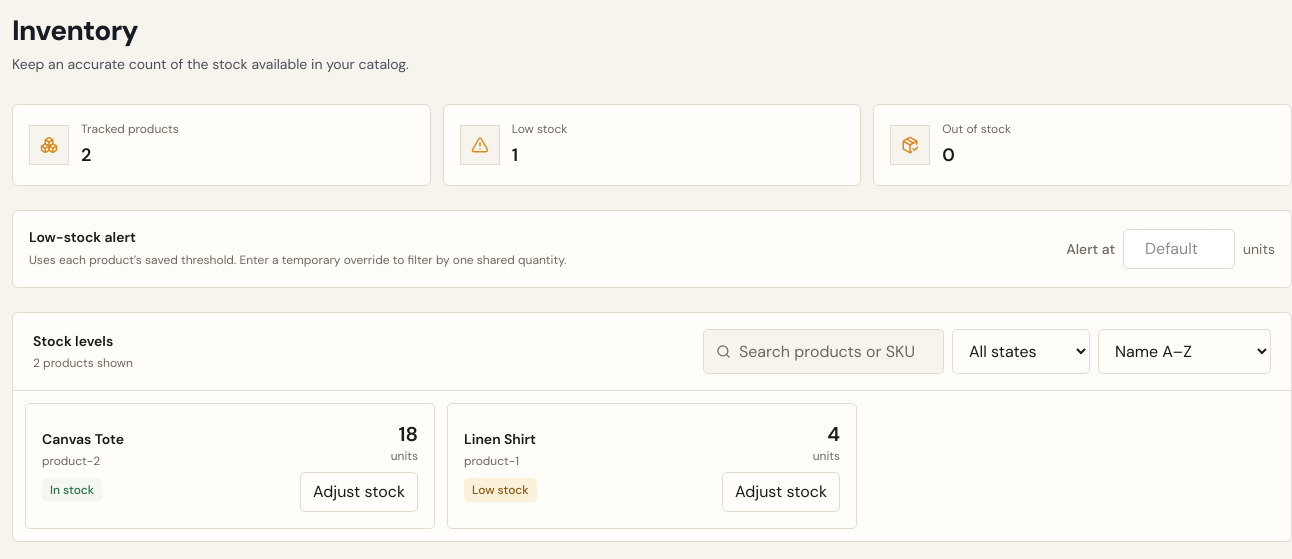
Test: Inventory › filters inventory rows by search text
Expected: the text "Linen Shirt" is shown, x1=464 y1=429 x2=537 y2=449
Expected: the number field labelled "Alert at" has style "backgroundColor: rgb(255, 255, 255); color: rgb(23, 27, 36); colorScheme: light", x1=1123 y1=229 x2=1235 y2=269
Type "tote" into the field with placeholder "Search products or SKU" at (835, 351), box x1=739 y1=331 x2=931 y2=371
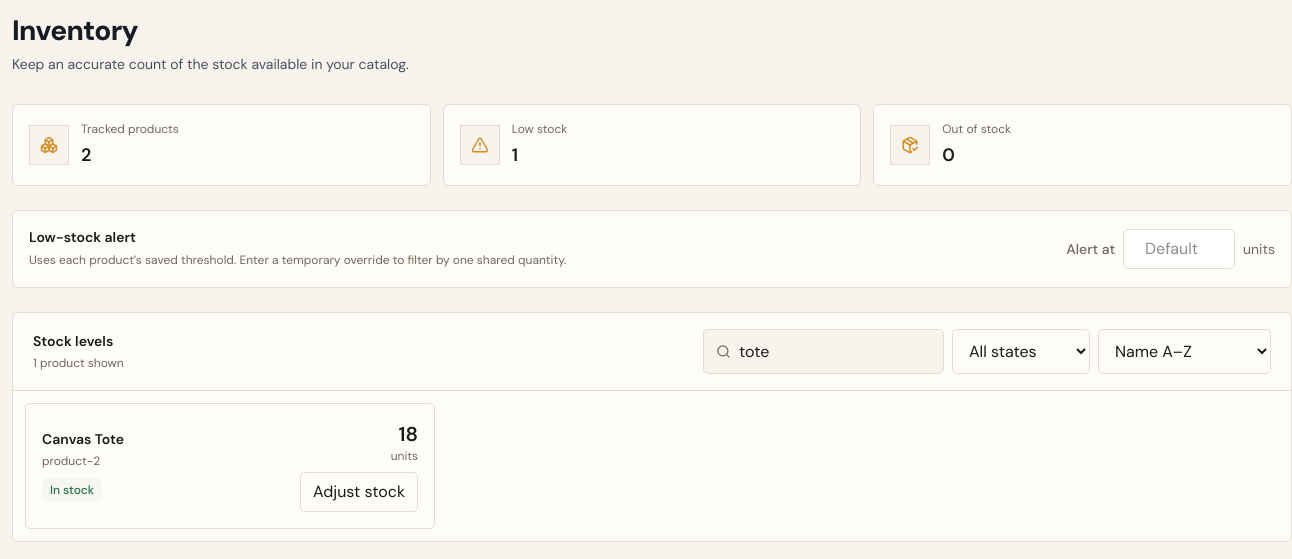
Expected: the text "Canvas Tote" is shown, x1=42 y1=429 x2=124 y2=449
Expected: the text "Linen Shirt" is gone
